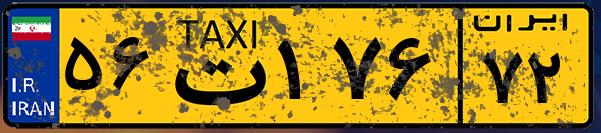1: (270, 28, 330, 110)
2: (525, 38, 570, 115)
5: (57, 26, 110, 100)
6: (385, 28, 445, 110), (110, 28, 158, 98)
7: (330, 28, 385, 110), (475, 38, 525, 113)
ت: (158, 12, 270, 120)
